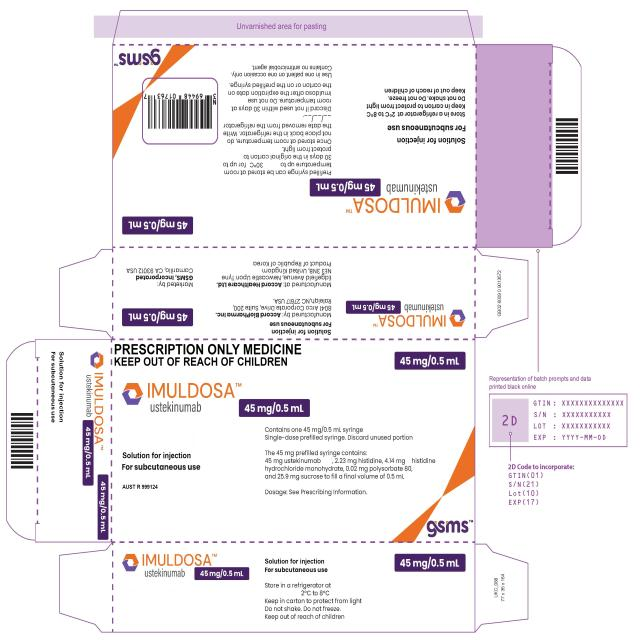Artwork: (0, 0, 640, 640)
Back_Panel: (113, 44, 476, 247)
Bottom_Part: (475, 45, 552, 247)
Extra_Areas: (113, 8, 475, 44), (552, 42, 583, 248), (4, 340, 35, 541), (475, 247, 530, 341), (57, 544, 113, 635), (475, 541, 530, 632), (59, 248, 113, 338)
Front_Panel: (112, 340, 475, 543)
Side_Panel: (113, 247, 474, 340), (112, 543, 476, 633)
Top_Panel: (35, 339, 112, 542)
